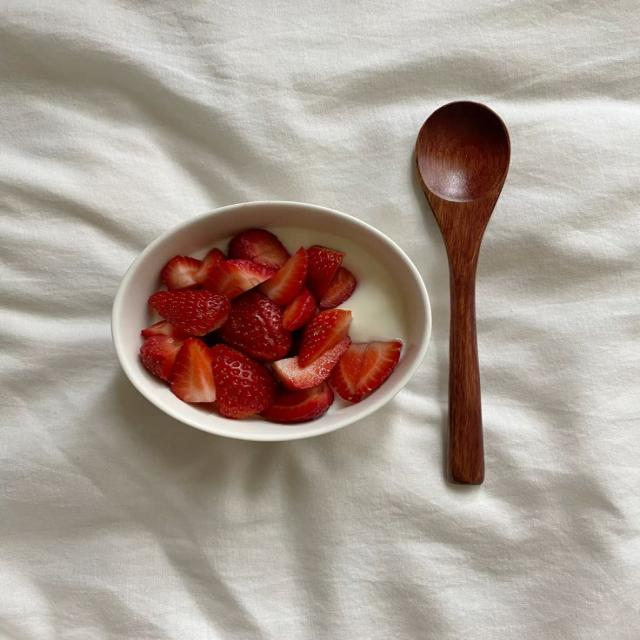strawberry sliced: (218, 291, 291, 361), (211, 345, 276, 418), (331, 341, 402, 402), (273, 338, 351, 390), (149, 291, 230, 335), (299, 310, 352, 367), (262, 383, 333, 423), (171, 338, 215, 402), (260, 248, 307, 306), (204, 260, 273, 298), (228, 229, 289, 269), (307, 246, 344, 300), (140, 335, 183, 380), (319, 267, 356, 309), (283, 289, 316, 330), (161, 256, 200, 290), (195, 248, 225, 284), (141, 320, 187, 337)
